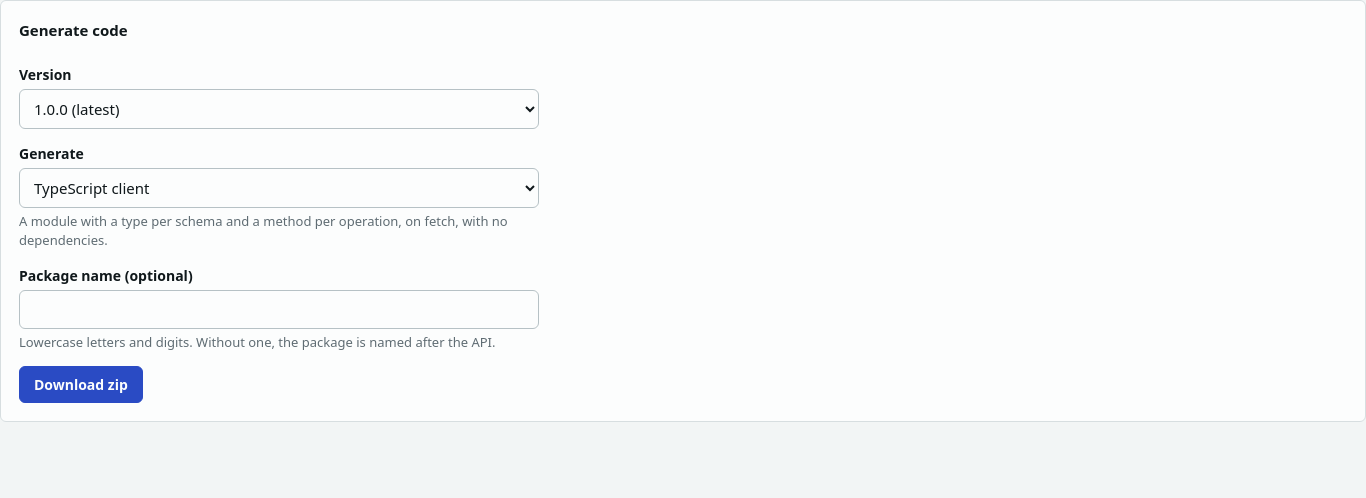
Test: CodeDownload › explains a failure
Click the button "Download zip": click(81, 384) [19,366,143,403]
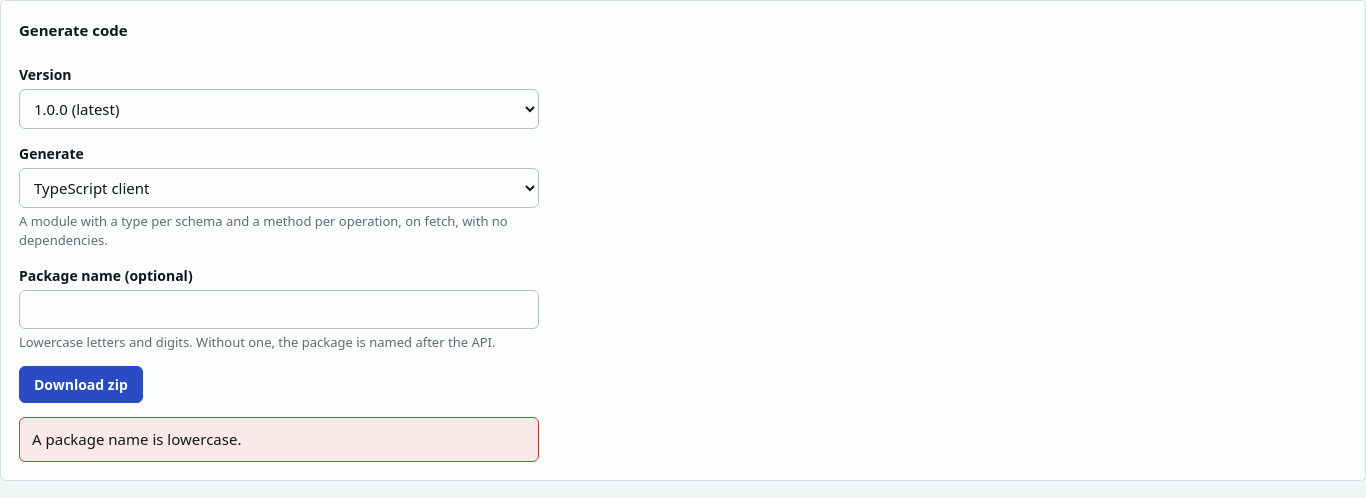
expect the message reads "A package name is lowercase.": met, box [32,429,241,449]
